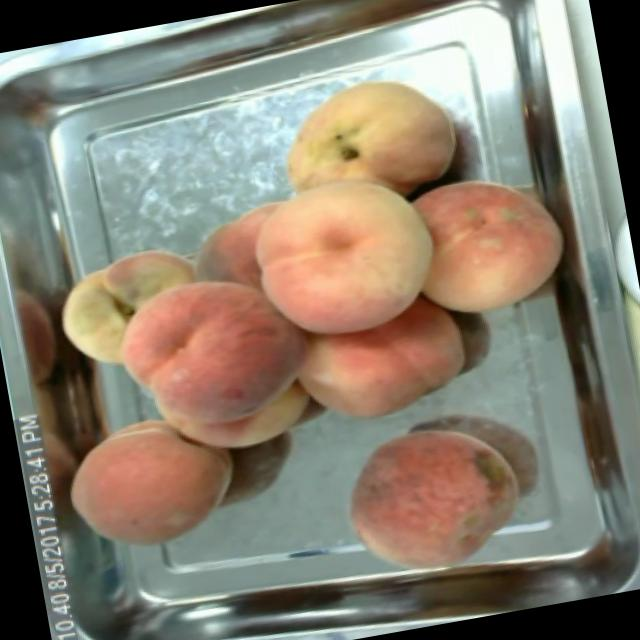Fruit: (102, 254, 330, 470), (234, 163, 452, 352), (324, 403, 540, 592), (390, 152, 586, 332), (263, 56, 472, 221), (50, 396, 251, 565), (279, 286, 482, 438)
